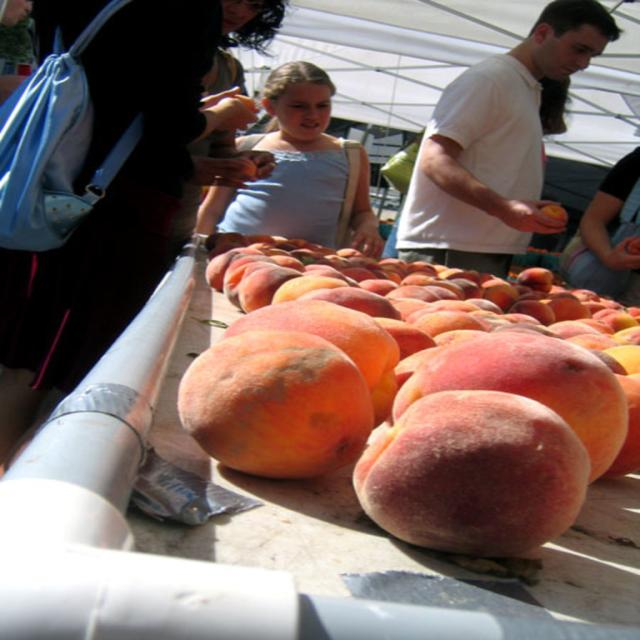Peach: (172, 230, 639, 556)
